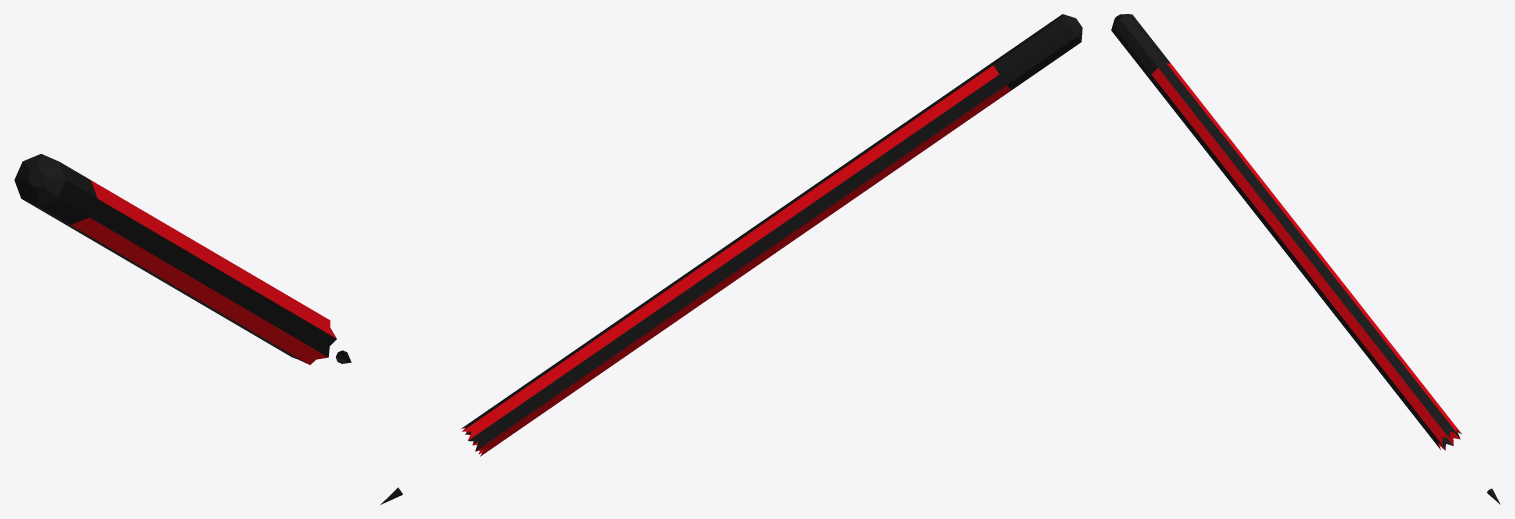
File: pencil.glb
The picture shows the model from 3 angles, left to right: view 1: azimuth 30°, elevation 25°; view 2: azimuth 150°, elevation 25°; view 3: azimuth 270°, elevation 25°; orthographic projection. The views are drawn at different scales.
Visible parts, largest first — view 1: Cylinder_black_0.001, Cylinder_red_0.001; view 2: Cylinder_black_0.001, Cylinder_red_0.001; view 3: Cylinder_black_0.001, Cylinder_red_0.001.
Boxes of the visible parts, <box> form: Cylinder_black_0.001: <box>14,154,351,364</box>; Cylinder_red_0.001: <box>71,180,336,364</box>; Cylinder_black_0.001: <box>380,14,1082,504</box>; Cylinder_red_0.001: <box>461,65,1010,456</box>; Cylinder_black_0.001: <box>1111,14,1500,504</box>; Cylinder_red_0.001: <box>1151,63,1461,449</box>.
Size of the model in its own units: 0.3524 by 0.3088 by 0.3362.
